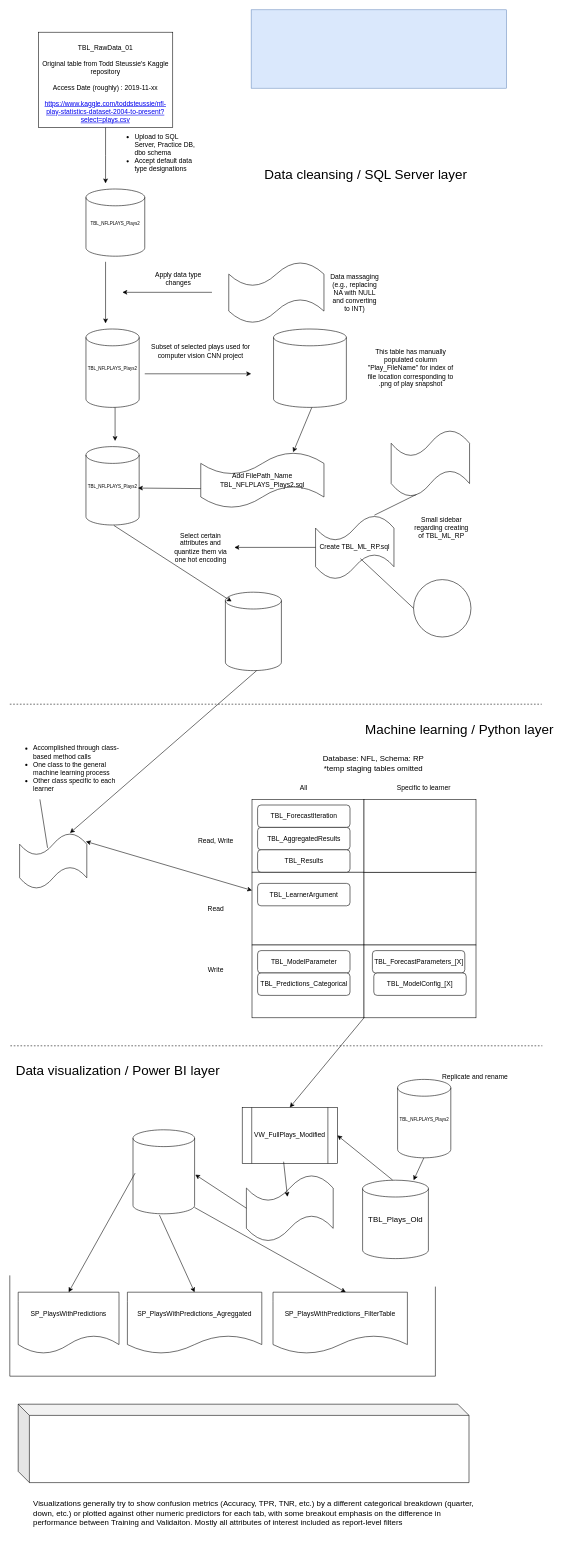
Image size: 570x1543. Some labels were removed from this diagram. The centre of each missing label's shape, as x and y in pixels:
"Changes TBL_NFLPLAYS_Plays2.sql" belongs at (x=276, y=292).
"Create TBL_Play.sql" belongs at (x=289, y=1208).
"GENERAL PROCESS" belongs at (x=379, y=48).
"Musing Linkage Between Tables" belongs at (x=442, y=608).
"POWER BI OBJECTS" belongs at (x=243, y=1443).
"Run or Pass.py" belongs at (x=53, y=860).
"TBL_ML_RP" belongs at (x=253, y=631).
"TBL_NFLPLAYS_SelectedPlays" belongs at (x=309, y=367).
"TBL_Play" belongs at (x=163, y=1171).
"Translation TBL_NFLPLAYS_Plays2 & TBL_ML_RP" belongs at (x=430, y=463).
